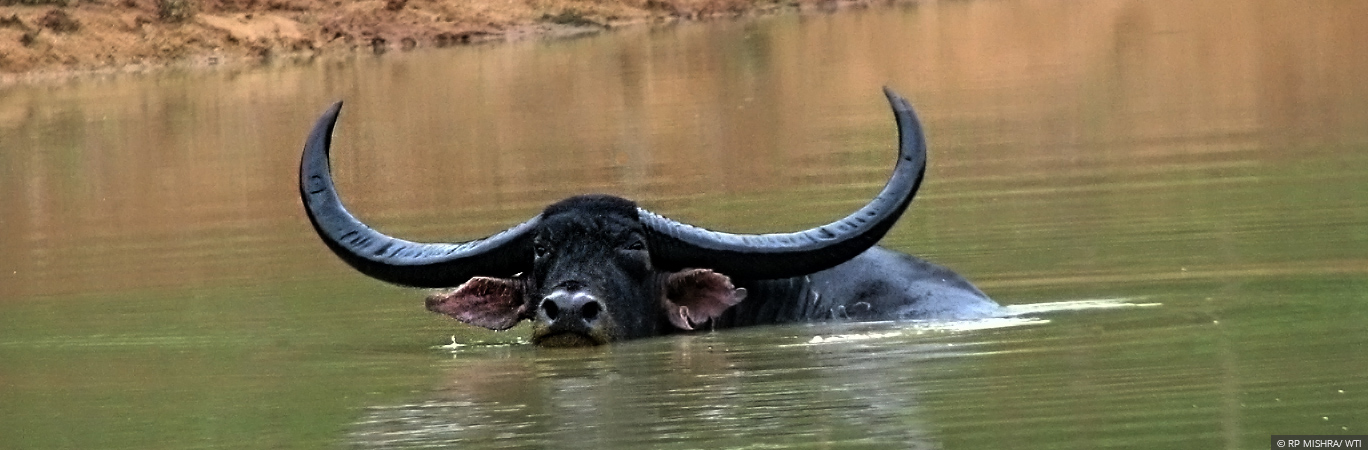buffalo: (299, 68, 1036, 368)
